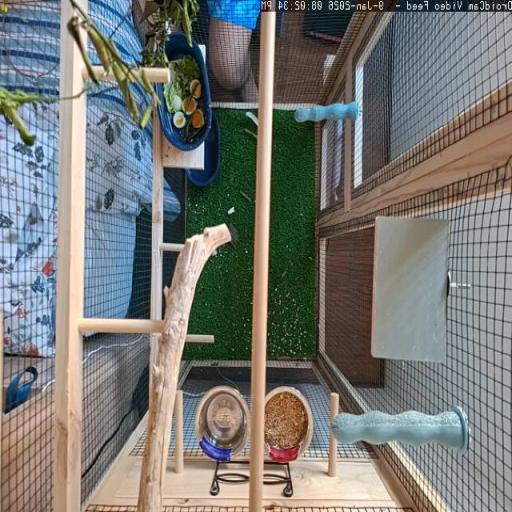bebedero: (196, 387, 249, 461)
comedero: (266, 386, 314, 462)
